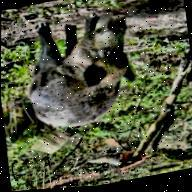boar: (19, 5, 145, 136)
